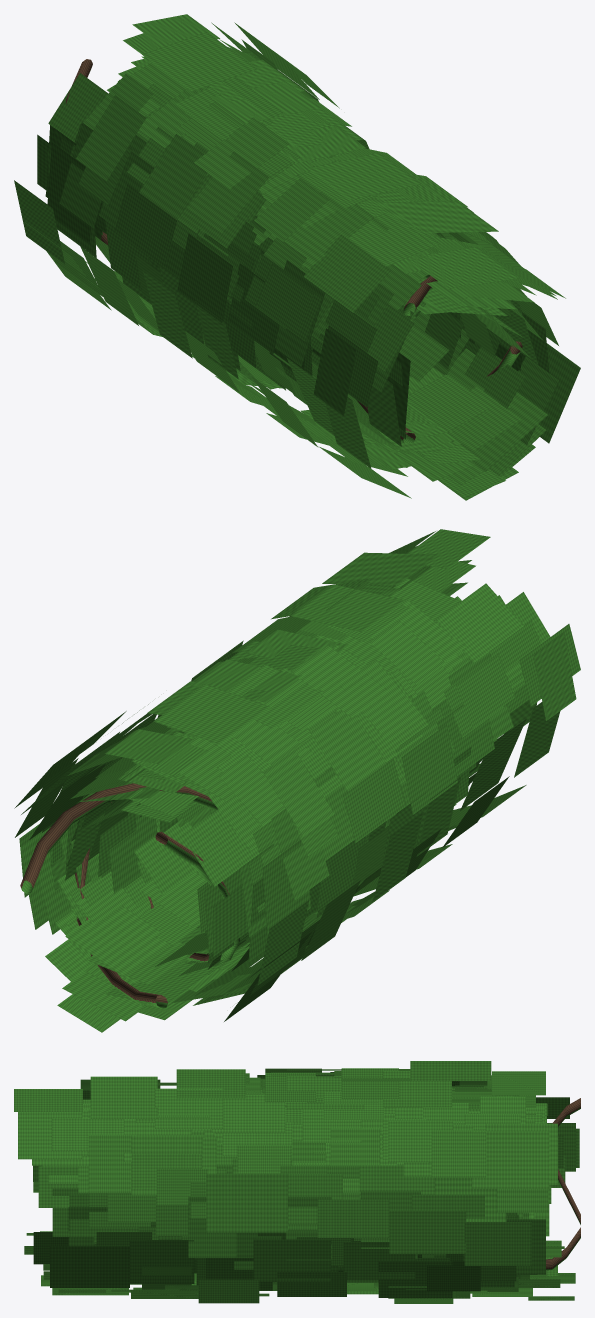
Rendered from veg_vine_ivy_01.glb.
3 renders of one model, top to bottom at view 1: azimuth 30°, elevation 25°; view 2: azimuth 150°, elevation 25°; view 3: azimuth 270°, elevation 25°, orthographic. The views are drawn at different scales.
Parts seen in each view (by area): view 1: veg_vine_ivy_01; view 2: veg_vine_ivy_01; view 3: veg_vine_ivy_01.
Boxes of the visible parts, x1,y1,x2,y2 form: veg_vine_ivy_01: (14,14,580,500); veg_vine_ivy_01: (14,529,580,1032); veg_vine_ivy_01: (14,1061,580,1303).
Bounding box in the file's own units: 0.7672 × 0.7705 × 1.8.
1 material, 1 textured.
